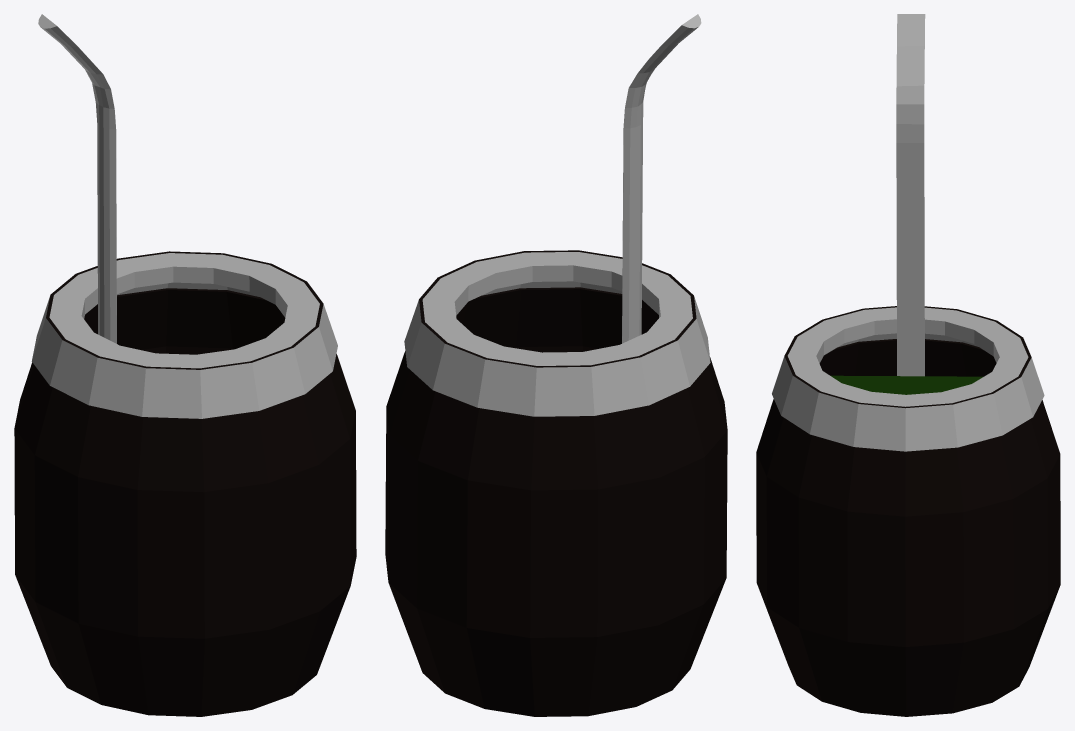
Rendered from mateEscalaV2.obj.
3 renders of one model, left to right at view 1: azimuth 30°, elevation 25°; view 2: azimuth 150°, elevation 25°; view 3: azimuth 270°, elevation 25°, orthographic. The views are drawn at different scales.
Parts seen in each view (by area): view 1: Cilindro; view 2: Cilindro; view 3: Cilindro.
Part boxes in pixels (x1,y1,x2,y2): Cilindro: [14, 14, 356, 716]; Cilindro: [385, 14, 727, 716]; Cilindro: [756, 14, 1060, 716].
Size of the model in its own units: 0.0856 by 0.1844 by 0.0855.
